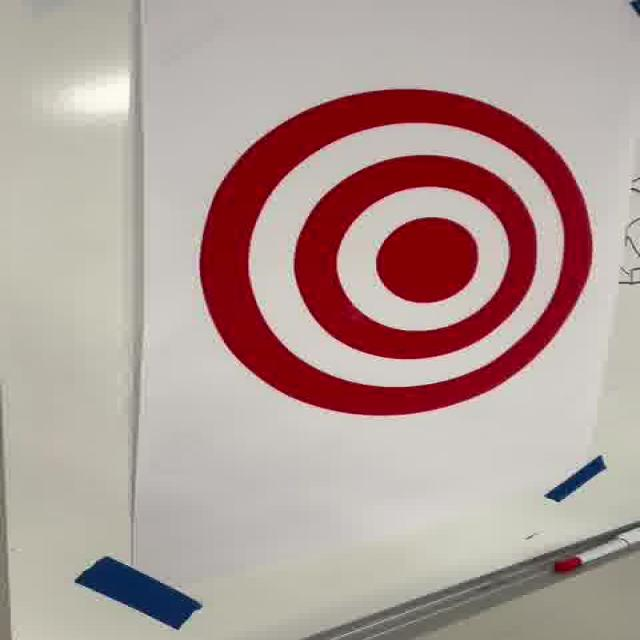target_red: (200, 89, 595, 417)
